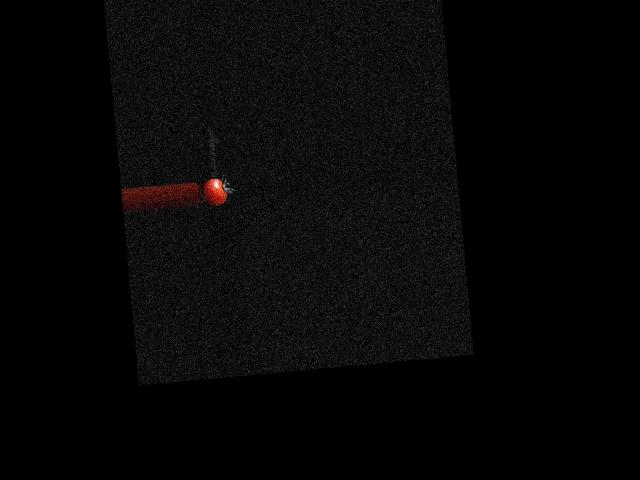tomato: (201, 177, 227, 206)
